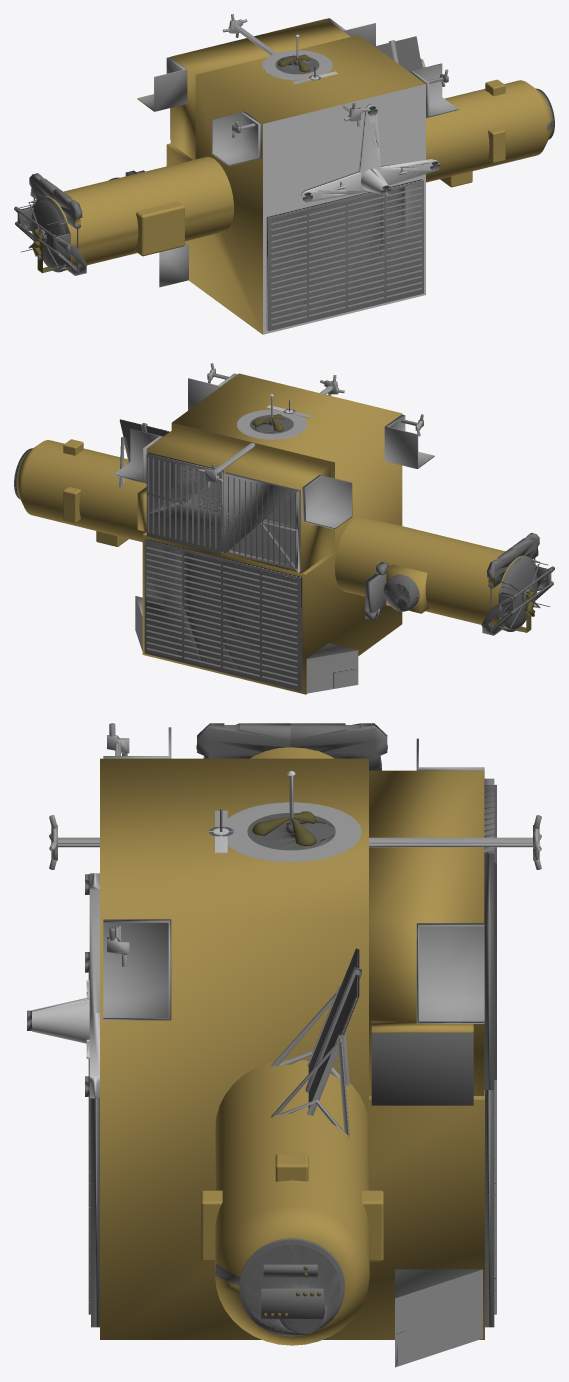
File: Spartan 201.glb
3 views of the same model, one above another, from view 1: azimuth 30°, elevation 25°; view 2: azimuth 150°, elevation 25°; view 3: azimuth 270°, elevation 25° (orthographic). The views are drawn at different scales.
Visible parts, largest first — view 1: Fake; view 2: Fake; view 3: Fake.
Boxes of the visible parts, left/top/right/bottom form: Fake: left=14, top=14, right=554, bottom=334; Fake: left=14, top=363, right=554, bottom=694; Fake: left=27, top=723, right=541, bottom=1367.
Size of the model in its own units: 3.33 by 1.53 by 1.46.
